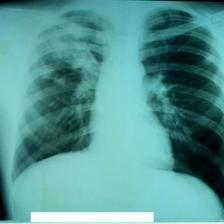tuberculosis: (8, 4, 224, 209)
